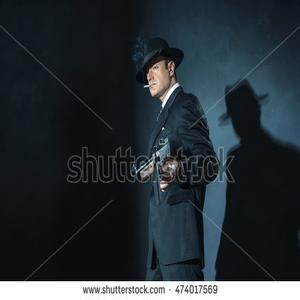cigarette: (141, 82, 156, 89)
